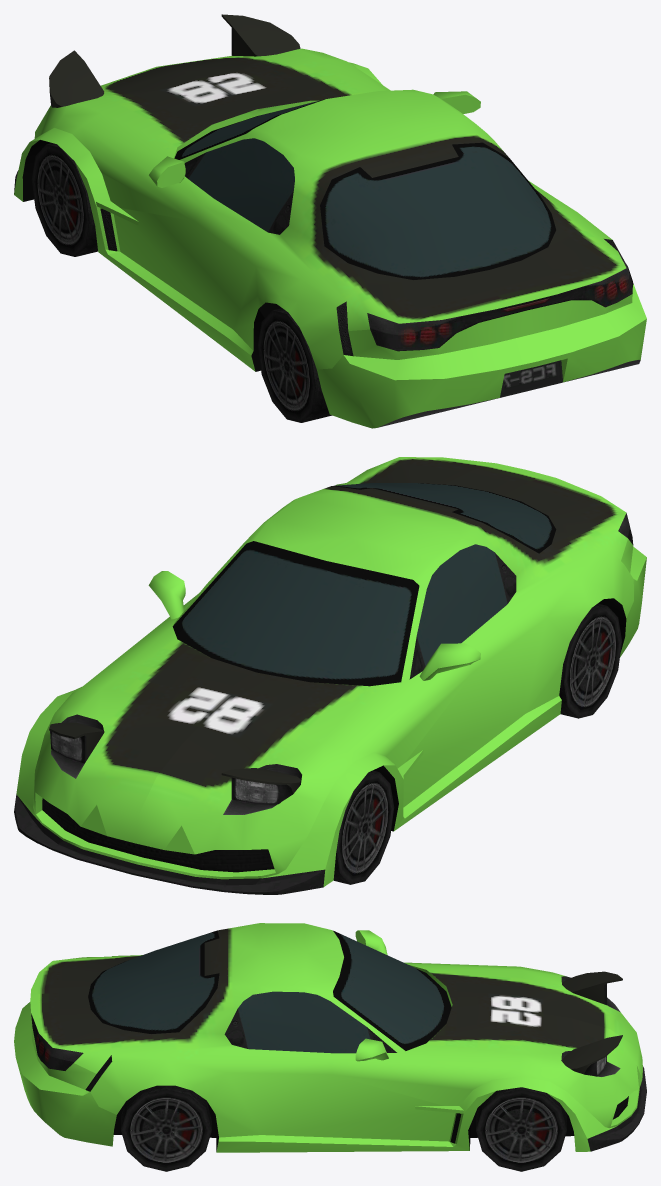
The model's file is car_66.glb.
3 views of the same model, one above another, from view 1: azimuth 30°, elevation 25°; view 2: azimuth 150°, elevation 25°; view 3: azimuth 270°, elevation 25° (orthographic). The views are drawn at different scales.
Parts seen in each view (by area): view 1: car_66; view 2: car_66; view 3: car_66.
Part boxes in pixels (bbox=[...]): car_66: bbox=[14, 14, 646, 428]; car_66: bbox=[14, 457, 646, 894]; car_66: bbox=[14, 923, 646, 1171].
Size of the model in its own units: 19.93 by 12.17 by 43.13.
10 materials, 10 textured.
